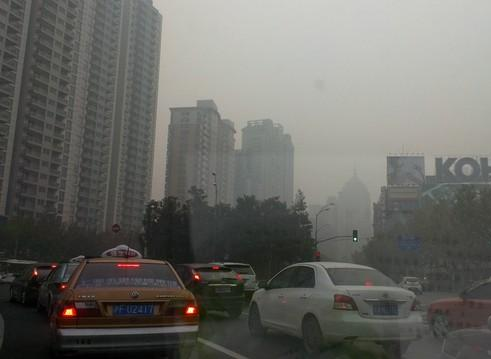car: (244, 260, 421, 359), (49, 243, 200, 359), (165, 260, 245, 319), (425, 277, 491, 340), (36, 257, 102, 319), (8, 262, 66, 308), (205, 260, 258, 310), (438, 321, 491, 358), (396, 274, 422, 292)
